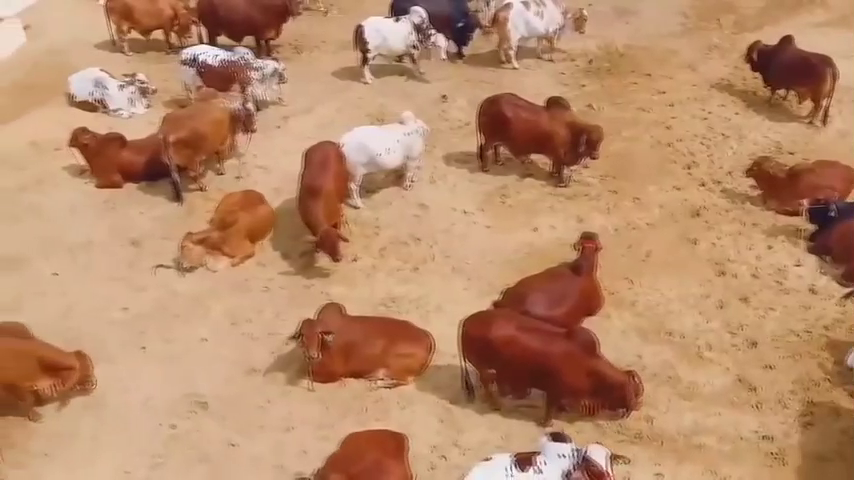bo: (448, 309, 648, 427), (290, 298, 446, 394), (469, 90, 604, 189), (499, 223, 618, 328), (150, 82, 263, 191), (3, 313, 99, 435), (451, 419, 631, 480), (742, 25, 839, 128), (348, 5, 456, 92), (176, 186, 282, 272), (169, 34, 283, 110), (291, 142, 360, 267), (61, 122, 163, 204), (346, 102, 431, 199), (293, 419, 422, 480), (60, 52, 159, 130), (491, 2, 598, 73), (743, 147, 852, 215), (190, 1, 307, 57), (94, 1, 195, 62), (384, 4, 479, 61), (793, 194, 853, 283)
